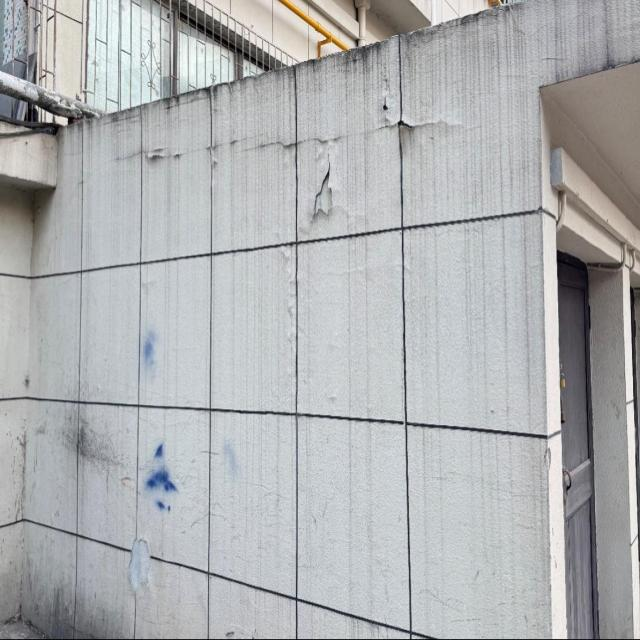crack: (116, 131, 301, 174)
hollowing: (271, 80, 478, 414)
mildew: (92, 1, 525, 160), (43, 342, 136, 488), (24, 565, 124, 639)
spalling: (123, 529, 155, 606)
